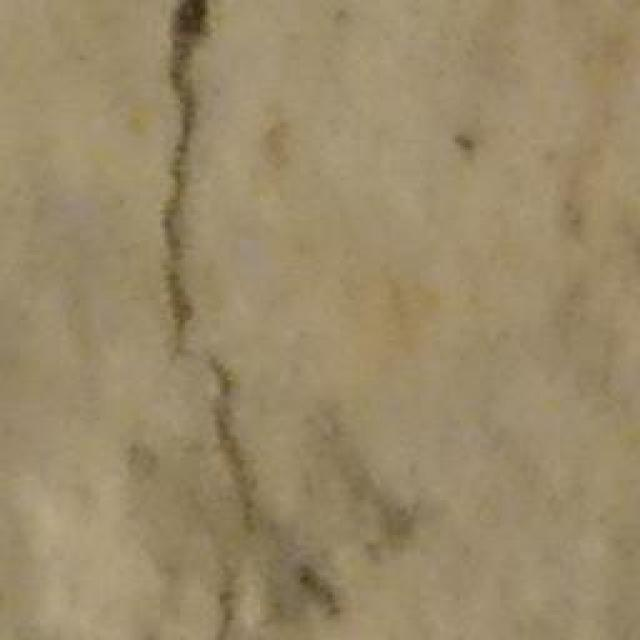Longitudinal: (132, 0, 371, 635)
